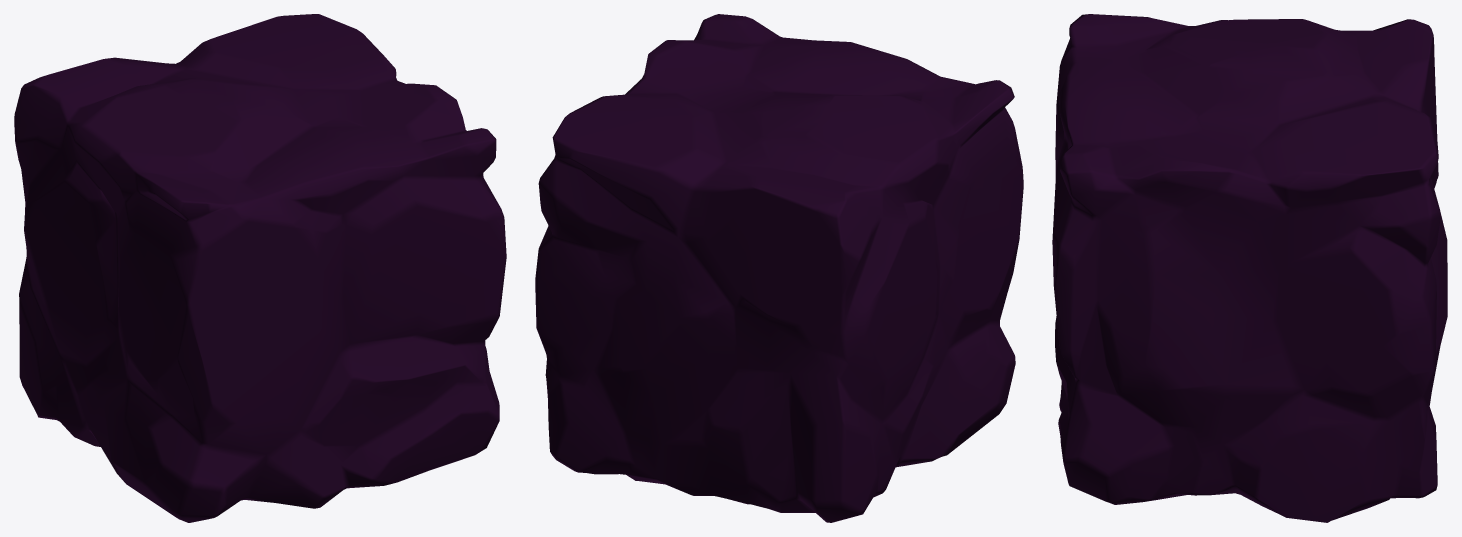
The model's file is SM_RockBlock_01.fbx.
3 views of the same model, side by side, from view 1: azimuth 30°, elevation 25°; view 2: azimuth 150°, elevation 25°; view 3: azimuth 270°, elevation 25° (orthographic). The views are drawn at different scales.
Visible parts, largest first — view 1: Cube; view 2: Cube; view 3: Cube.
Part boxes in pixels (x1,y1,x2,y2): Cube: (14,14,506,522); Cube: (535,14,1023,522); Cube: (1052,14,1447,522).
Size of the model in its own units: 211 by 214 by 208.
Materials: 1 (1 with a texture image).
